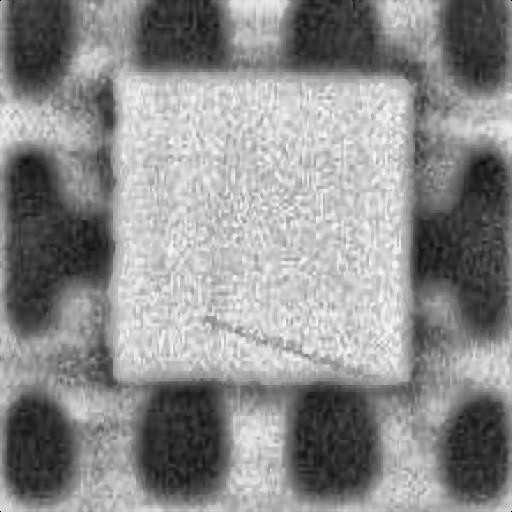DIE_CRACK: (300, 213, 512, 251)
